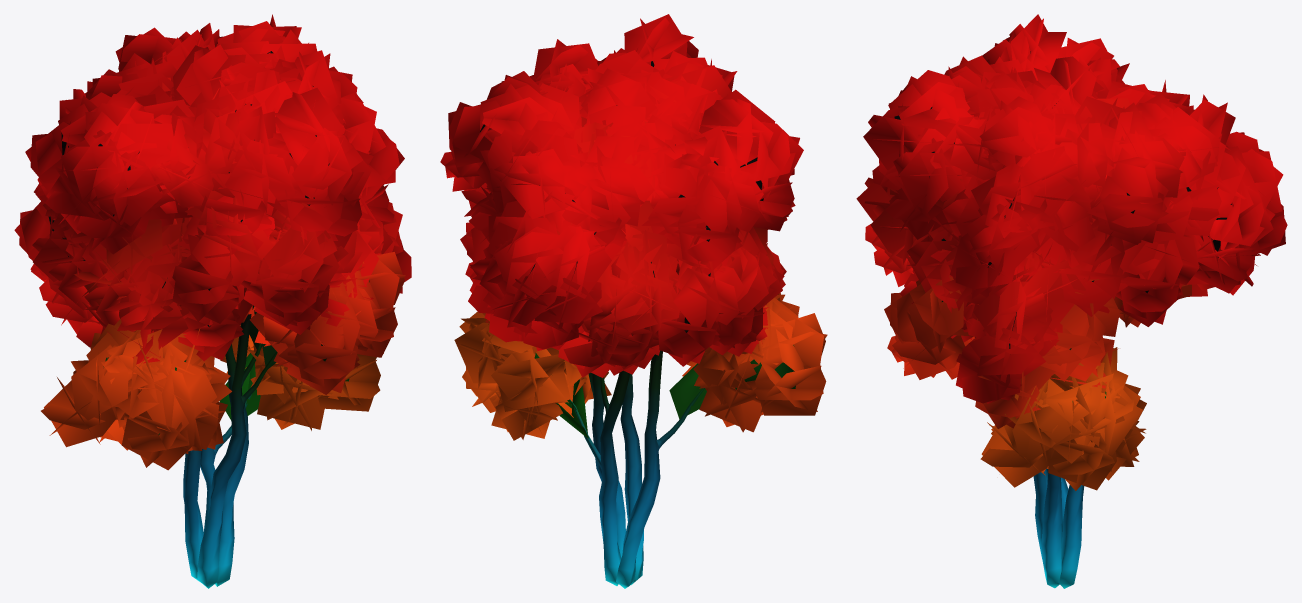
Rendered from Osmanthus7.fbx.
3 renders of one model, left to right at view 1: azimuth 30°, elevation 25°; view 2: azimuth 150°, elevation 25°; view 3: azimuth 270°, elevation 25°, orthographic. The views are drawn at different scales.
Visible parts, largest first — view 1: Osmanthus7_LOD0; view 2: Osmanthus7_LOD0; view 3: Osmanthus7_LOD0.
Boxes of the visible parts, box(x1,y1,x2,y2) form: Osmanthus7_LOD0: box(14, 14, 411, 588); Osmanthus7_LOD0: box(440, 14, 827, 588); Osmanthus7_LOD0: box(856, 14, 1287, 588).
Size of what is drawn, in the model's own units: 562 by 809 by 597.
